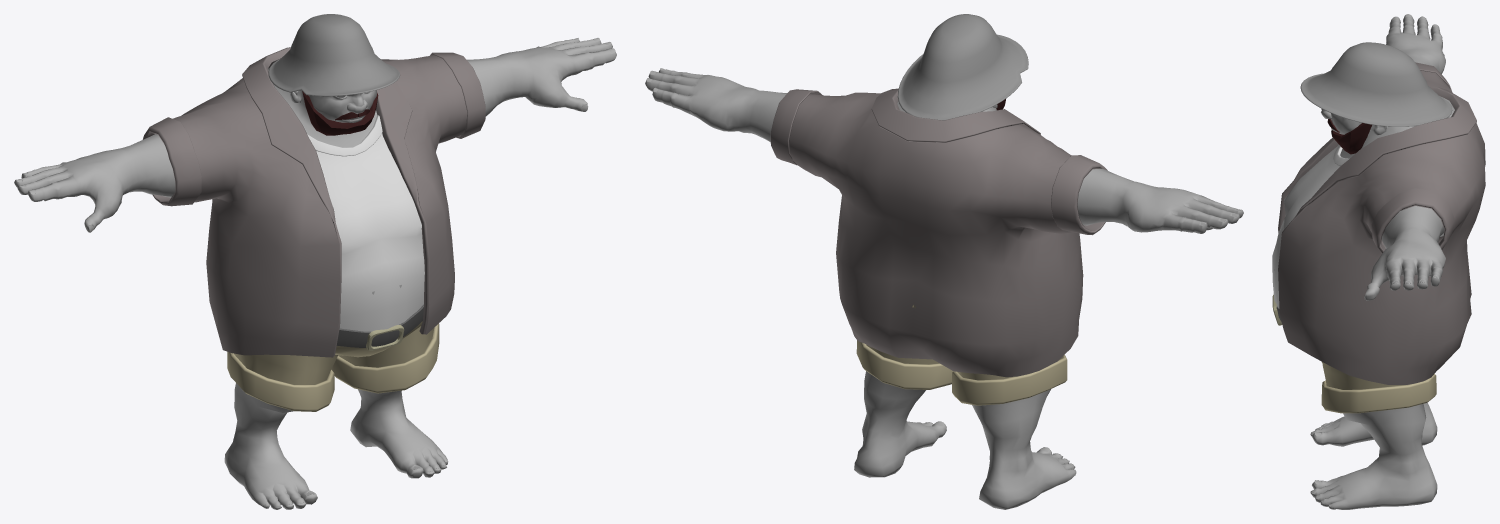
Rendered from fisherman.fbx.
3 renders of one model, left to right at view 1: azimuth 30°, elevation 25°; view 2: azimuth 150°, elevation 25°; view 3: azimuth 270°, elevation 25°, orthographic. The views are drawn at different scales.
Parts seen in each view (by area): view 1: polySurface30, polySurface44, polySurface29, polySurface45, hat, polySurface18, polySurface31, polySurface40, polySurface38; view 2: polySurface30, polySurface44, hat, polySurface18, polySurface45, polySurface31; view 3: polySurface30, hat, polySurface44, polySurface31, polySurface45, polySurface29, polySurface18, polySurface38.
Part boxes in pixels (<box>): polySurface30: <box>142,47,485,357</box>; polySurface44: <box>14,38,616,294</box>; polySurface29: <box>307,115,424,331</box>; polySurface45: <box>227,321,439,411</box>; hat: <box>268,14,400,96</box>; polySurface18: <box>224,383,317,509</box>; polySurface31: <box>350,389,448,478</box>; polySurface40: <box>336,304,423,347</box>; polySurface38: <box>302,91,378,135</box>; polySurface30: <box>770,88,1107,377</box>; polySurface44: <box>645,68,1243,233</box>; hat: <box>897,14,1028,120</box>; polySurface18: <box>972,389,1076,509</box>; polySurface45: <box>856,305,1067,405</box>; polySurface31: <box>854,371,946,477</box>; polySurface30: <box>1278,62,1485,384</box>; hat: <box>1300,42,1452,126</box>; polySurface44: <box>1274,14,1454,300</box>; polySurface31: <box>1310,404,1437,509</box>; polySurface45: <box>1321,362,1436,413</box>; polySurface29: <box>1272,145,1349,308</box>; polySurface18: <box>1310,402,1437,446</box>; polySurface38: <box>1331,123,1371,154</box>.
Size of the model in its own units: 19.06 by 13.87 by 6.35.
